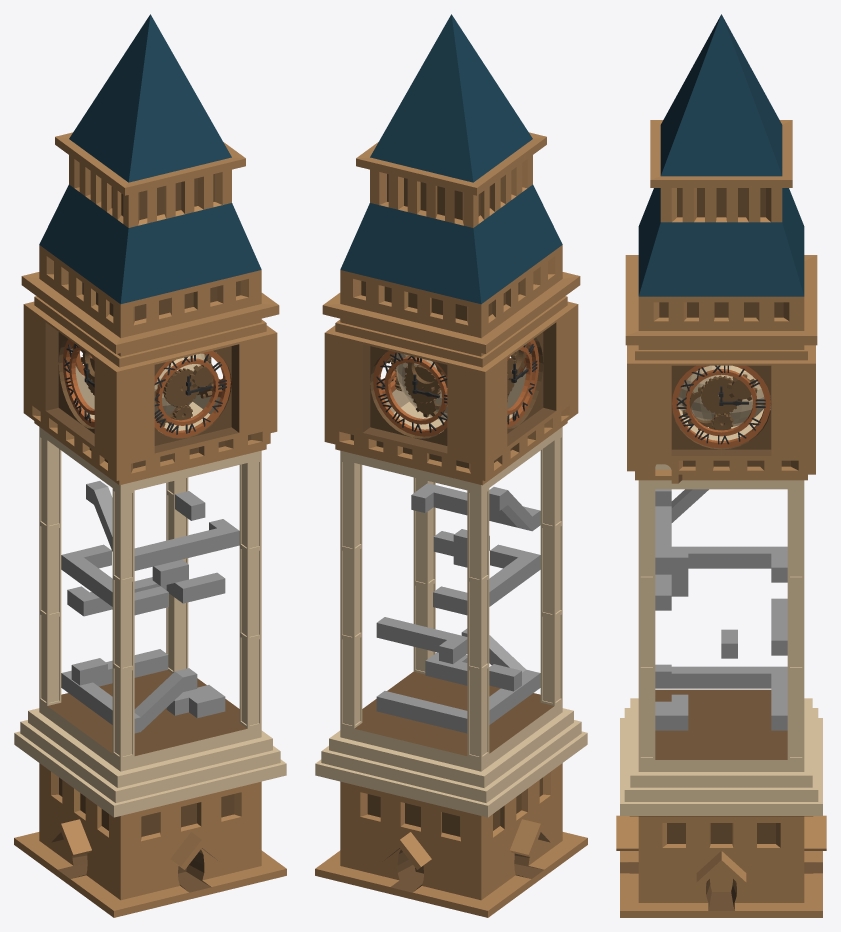
The model's file is clockTowerStructure.fbx.
3 views of the same model, side by side, from view 1: azimuth 30°, elevation 25°; view 2: azimuth 150°, elevation 25°; view 3: azimuth 270°, elevation 25° (orthographic).
Visible parts, largest first — view 1: Roof.001, Base, OutSideArea, F1StaticPlatform2, F3StaticPlatform1, F2StaticPlatform3, Pillar.007, Pillar.009, Pillar.003, Pillar.001, Pillar.004, Pillar.005 (+15 smaller); view 2: Roof.001, Base, OutSideArea, F1StaticPlatform2, F3StaticPlatform1, F2StaticPlatform3, F2StaticPlatform1, Pillar.005, Pillar.011, Pillar.001, Pillar.002, Pillar.003 (+16 smaller); view 3: Roof.001, Base, OutSideArea, F1StaticPlatform2, F2StaticPlatform3, F3StaticPlatform1, Pillar.010, Pillar.012, Pillar.002, Pillar.004, Pillar.006, Pillar.008 (+10 smaller).
Boxes of the visible parts, bbox=[...] form: Roof.001: bbox=[21, 14, 279, 353]; Base: bbox=[14, 670, 286, 917]; OutSideArea: bbox=[23, 296, 277, 493]; F1StaticPlatform2: bbox=[61, 649, 197, 733]; F3StaticPlatform1: bbox=[86, 481, 239, 570]; F2StaticPlatform3: bbox=[61, 544, 168, 615]; Pillar.007: bbox=[39, 523, 61, 617]; Pillar.009: bbox=[112, 488, 134, 582]; Pillar.003: bbox=[112, 665, 134, 759]; Pillar.001: bbox=[39, 612, 61, 705]; Pillar.004: bbox=[239, 634, 261, 728]; Pillar.005: bbox=[112, 577, 134, 670]; Roof.001: bbox=[322, 14, 580, 353]; Base: bbox=[315, 671, 587, 917]; OutSideArea: bbox=[324, 296, 578, 493]; F1StaticPlatform2: bbox=[376, 628, 540, 733]; F3StaticPlatform1: bbox=[411, 483, 540, 531]; F2StaticPlatform3: bbox=[433, 544, 540, 615]; F2StaticPlatform1: bbox=[376, 617, 467, 663]; Pillar.005: bbox=[540, 523, 562, 617]; Pillar.011: bbox=[467, 488, 489, 582]; Pillar.001: bbox=[467, 665, 489, 759]; Pillar.002: bbox=[340, 634, 362, 728]; Pillar.003: bbox=[540, 612, 562, 705]; Roof.001: bbox=[625, 14, 817, 345]; Base: bbox=[616, 689, 826, 917]; OutSideArea: bbox=[627, 345, 815, 489]; F1StaticPlatform2: bbox=[655, 664, 787, 730]; F2StaticPlatform3: bbox=[655, 546, 787, 582]; F3StaticPlatform1: bbox=[655, 489, 708, 572]; Pillar.010: bbox=[638, 489, 655, 579]; Pillar.012: bbox=[787, 489, 804, 579]; Pillar.002: bbox=[787, 669, 804, 759]; Pillar.004: bbox=[638, 669, 655, 759]; Pillar.006: bbox=[638, 579, 655, 669]; Pillar.008: bbox=[787, 579, 804, 669].
Bounding box in the file's own units: 127 × 573 × 127.
